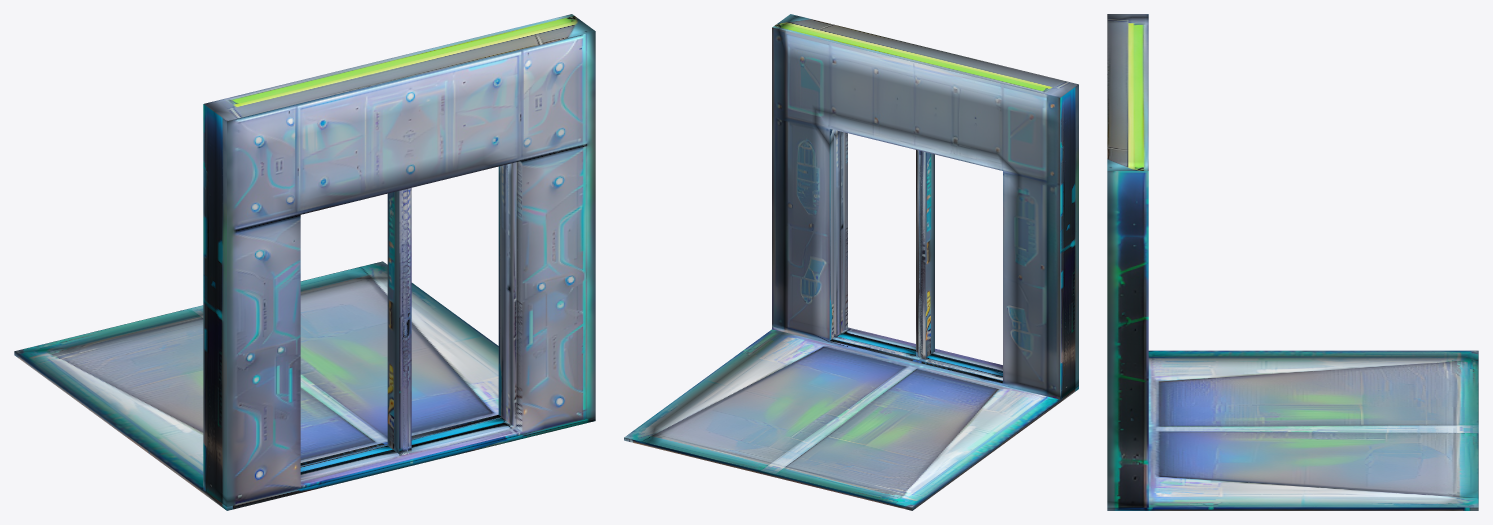
Rendered from residentialBasicFloorSlidingDoor.glb.
The picture shows the model from 3 angles, left to right: view 1: azimuth 30°, elevation 25°; view 2: azimuth 150°, elevation 25°; view 3: azimuth 270°, elevation 25°; orthographic projection. The views are drawn at different scales.
Parts seen in each view (by area): view 1: residentialBasicFloorSlidingDoor; view 2: residentialBasicFloorSlidingDoor; view 3: residentialBasicFloorSlidingDoor.
Boxes of the visible parts, x1,y1,x2,y2 form: residentialBasicFloorSlidingDoor: (14,14,595,510); residentialBasicFloorSlidingDoor: (624,14,1078,510); residentialBasicFloorSlidingDoor: (1107,14,1478,510).
Size of the model in its own units: 1 by 1.01 by 1.
Materials: 1 (1 with a texture image).
